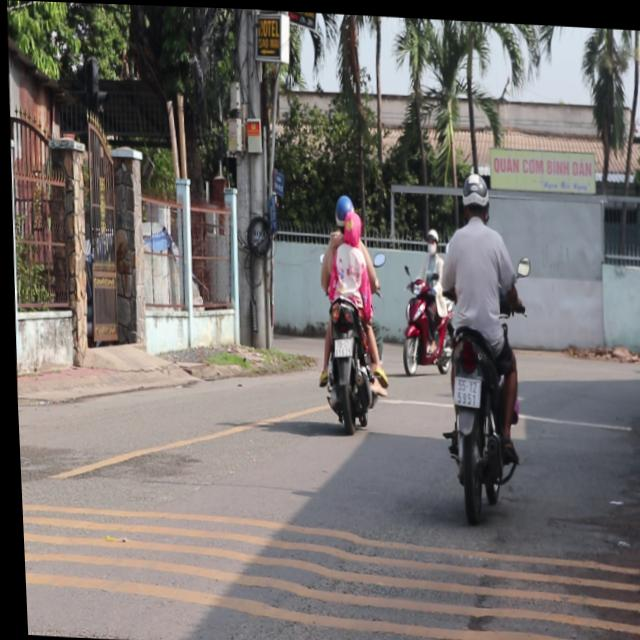helmet: (454, 165, 487, 219), (329, 188, 351, 219), (338, 206, 358, 239)
licenseplate: (423, 163, 527, 512), (304, 187, 387, 430)
nohelmet: (449, 372, 477, 403), (330, 333, 348, 353)
